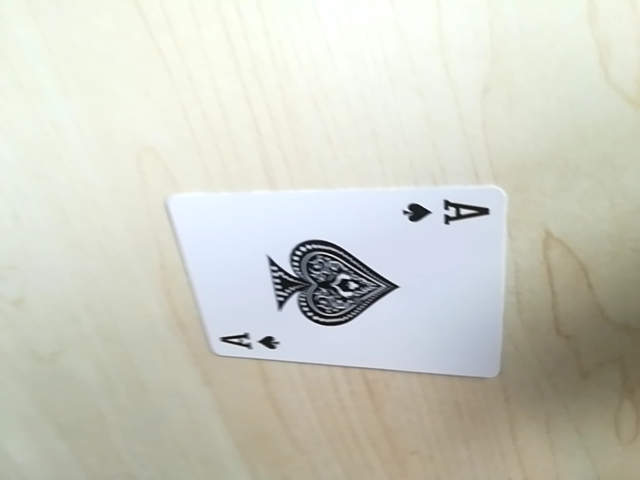ht a: (397, 192, 491, 232), (213, 328, 281, 354)
